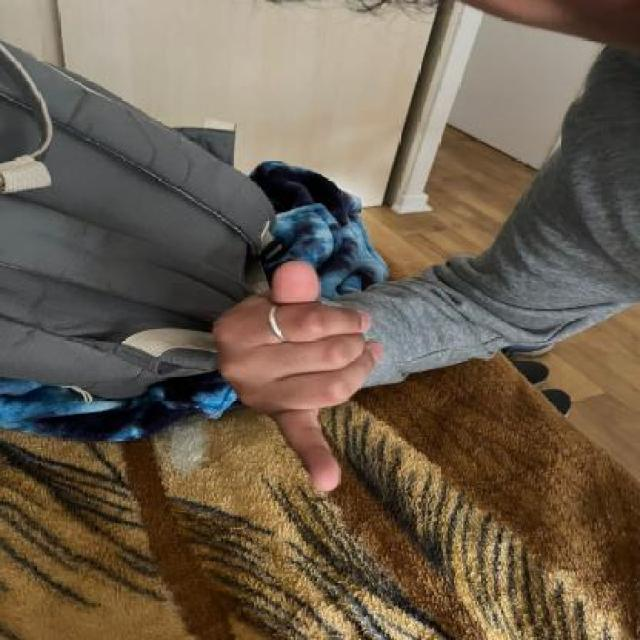Z: (212, 258, 396, 512)
